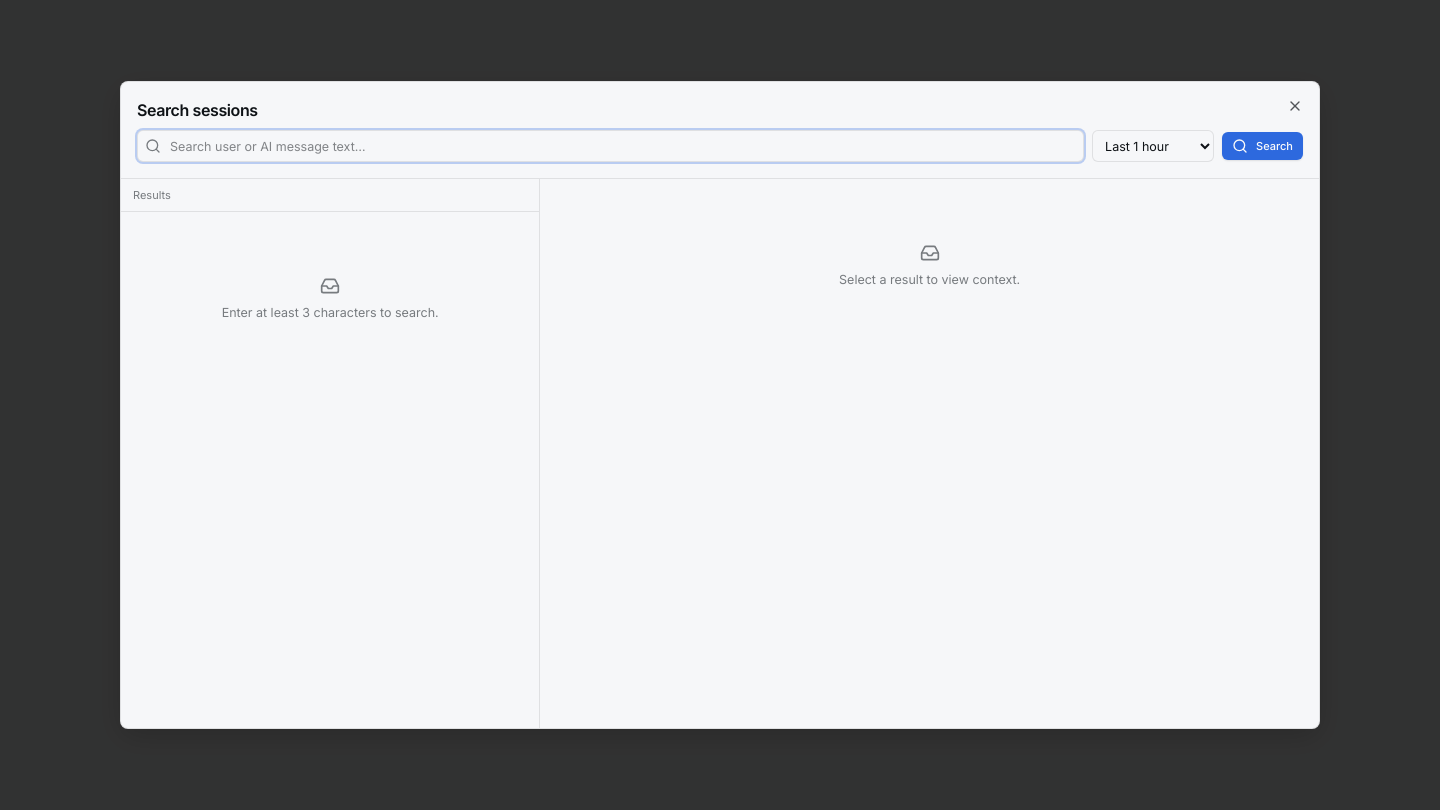
Test: SessionSearchDialog interactions › requests both cursor directions and merges returned messages
The image size is (1440, 810).
In the field named "Search message text": [611, 146] box [137,130,1084,162], type "refund"
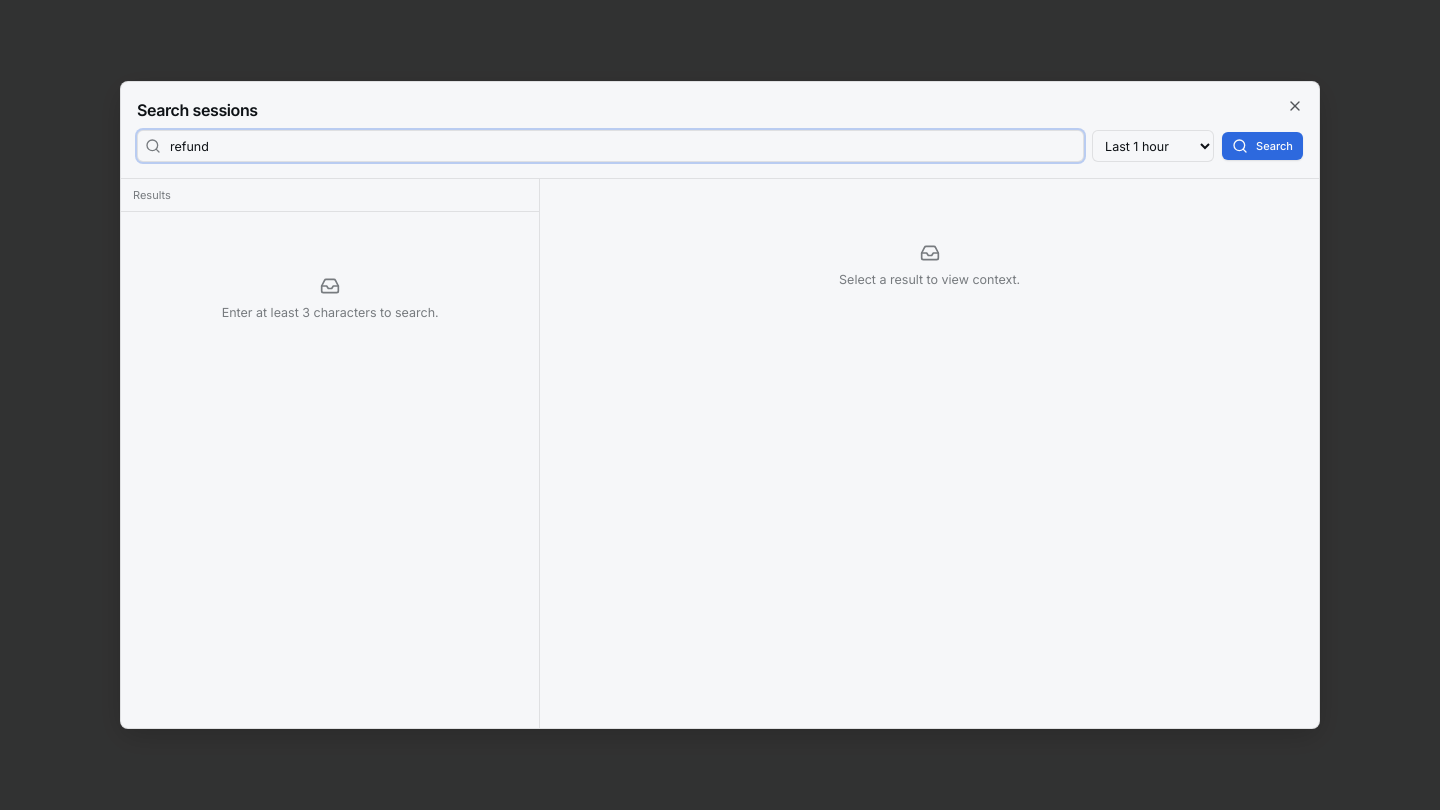
Click the button "Search": [1263, 146] box [1222,132,1303,160]
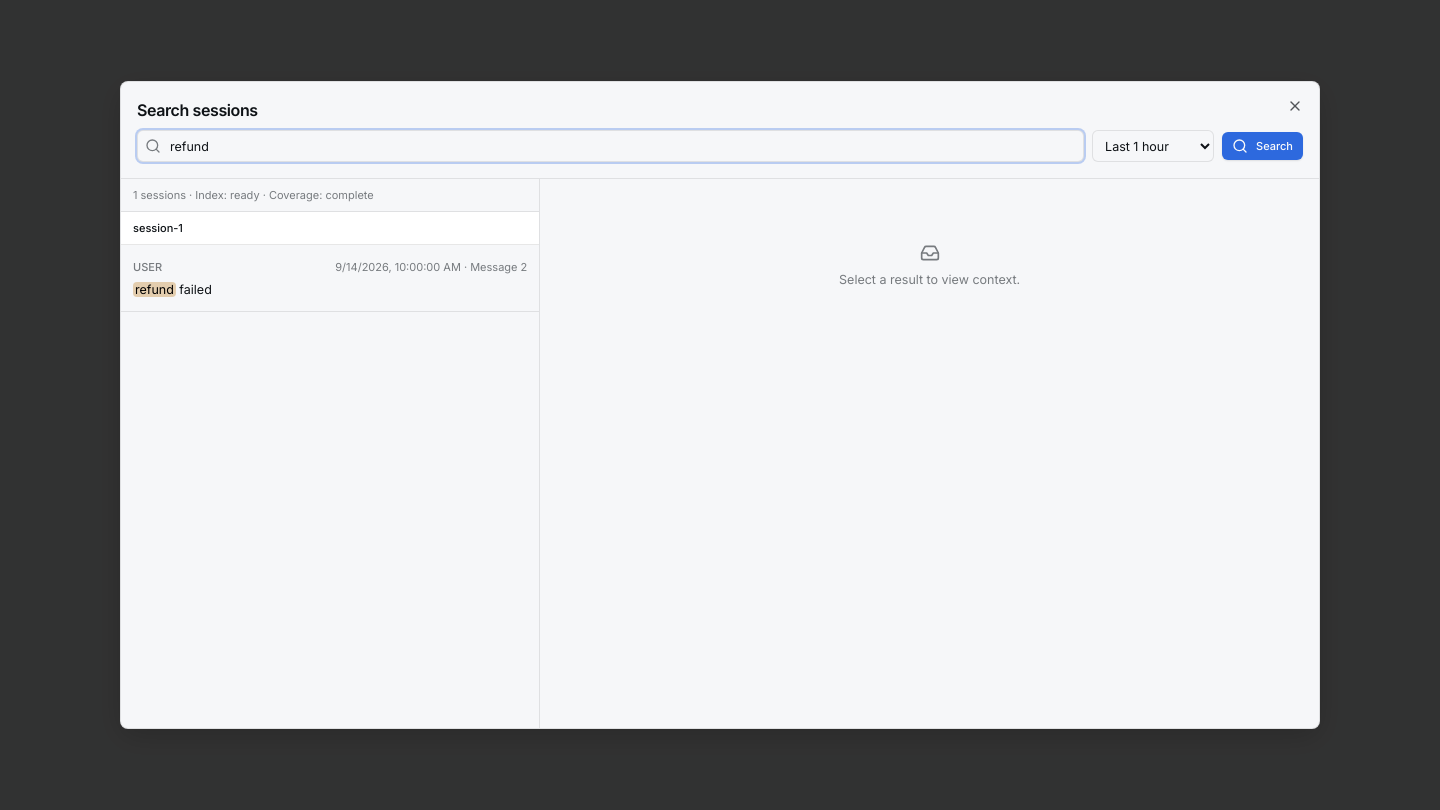
Result: the button "user 9/14/2026, 10:00:00 AM · Message 2 refund failed" is shown
Click the button "user 9/14/2026, 10:00:00 AM · Message 2 refund failed": [398, 267] box [121,245,539,312]
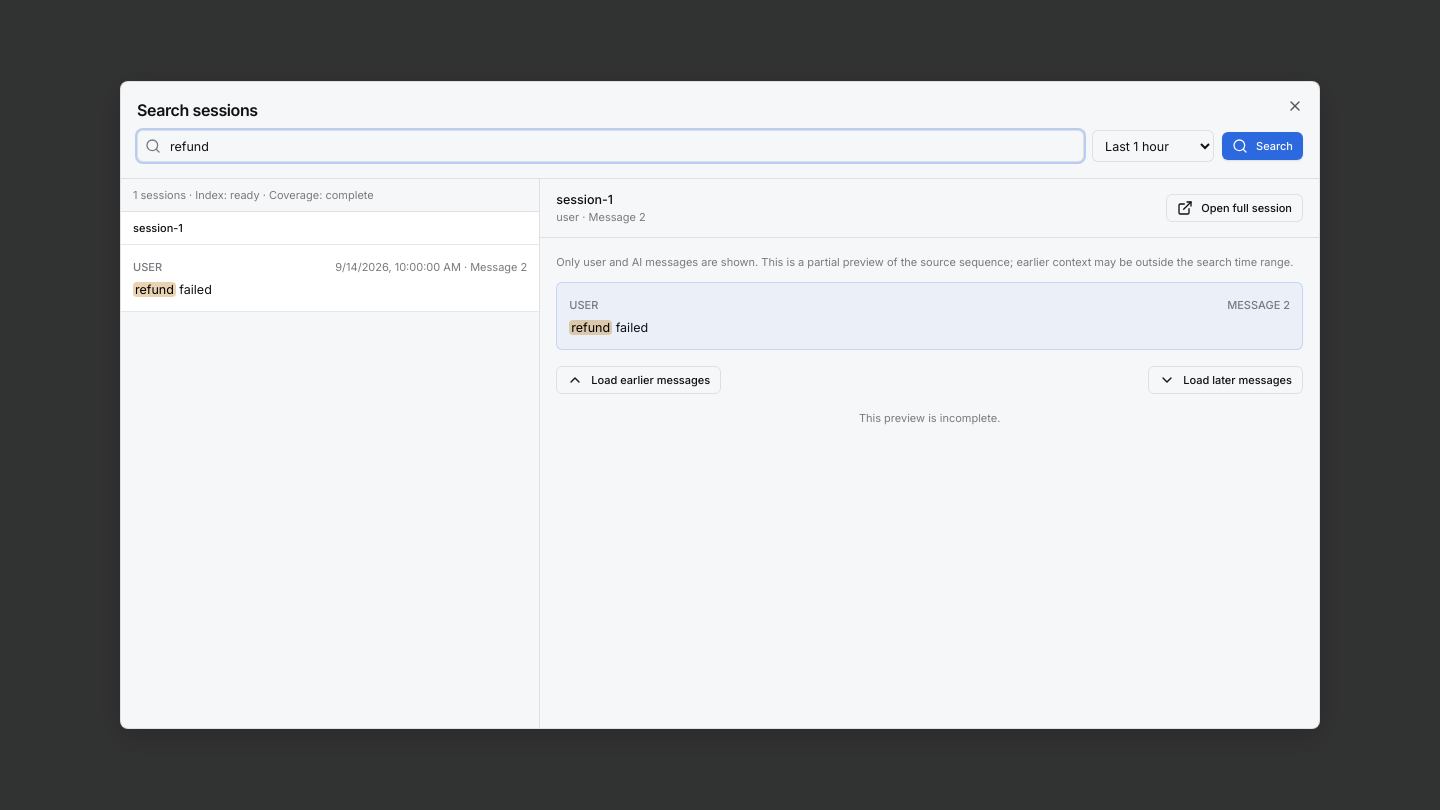
Click the button "Load earlier messages": [639, 380] box [556,366,721,394]
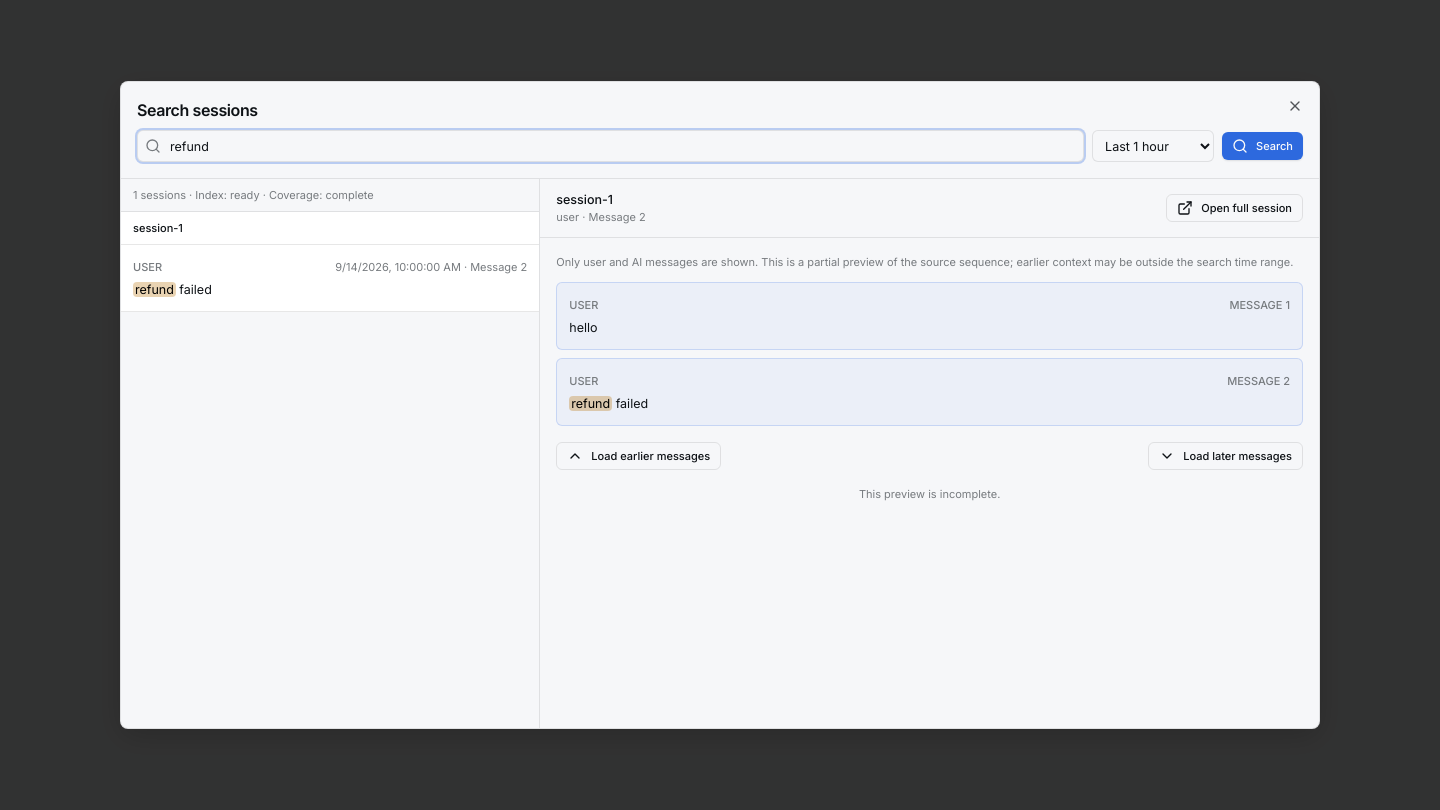
Result: the text "hello" is shown at [569,320,598,335]
Click the button "Load later messages": [1226, 456] box [1148,442,1303,470]
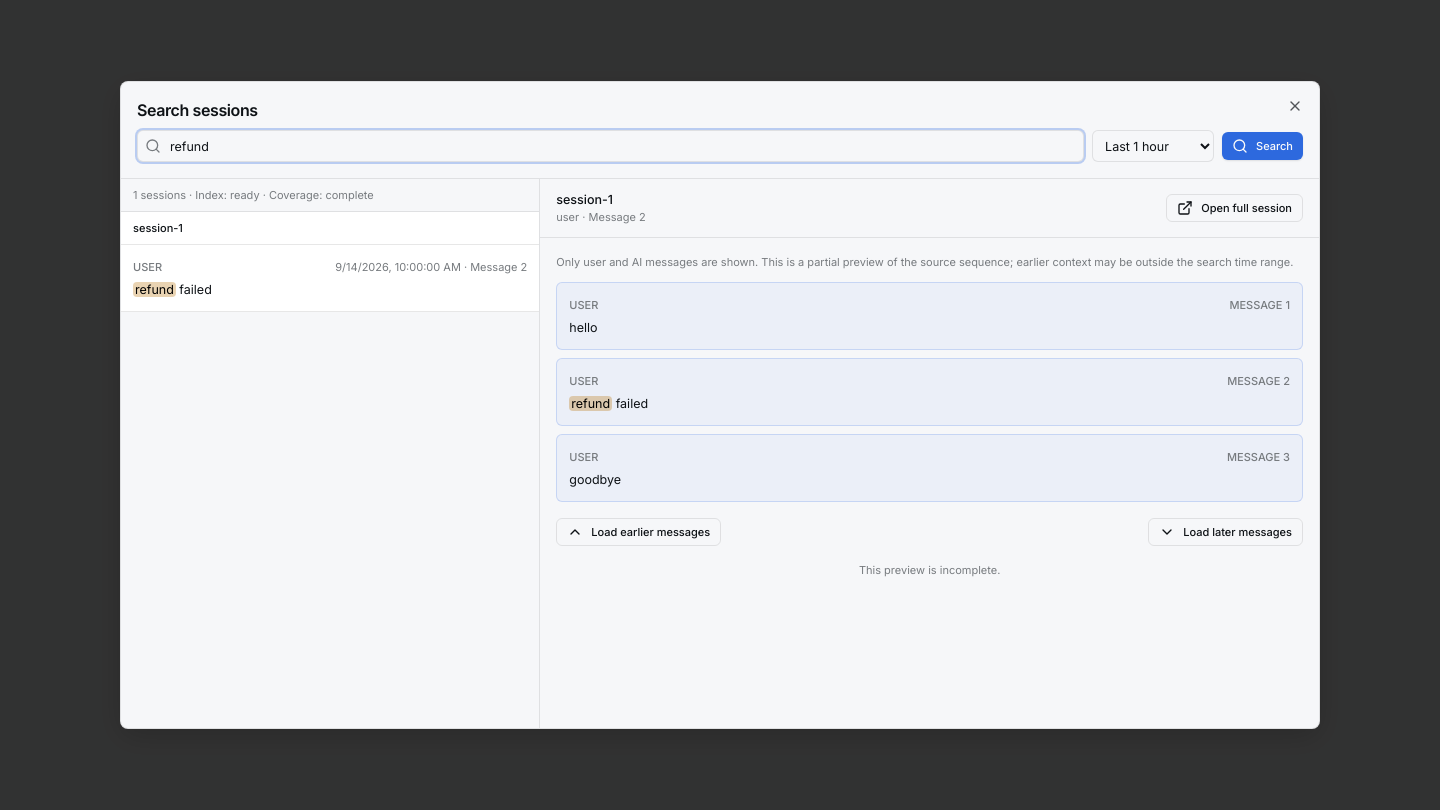
Result: the text "hello" is shown at [569,320,598,335]
Result: the text "goodbye" is shown at [569,472,621,487]
